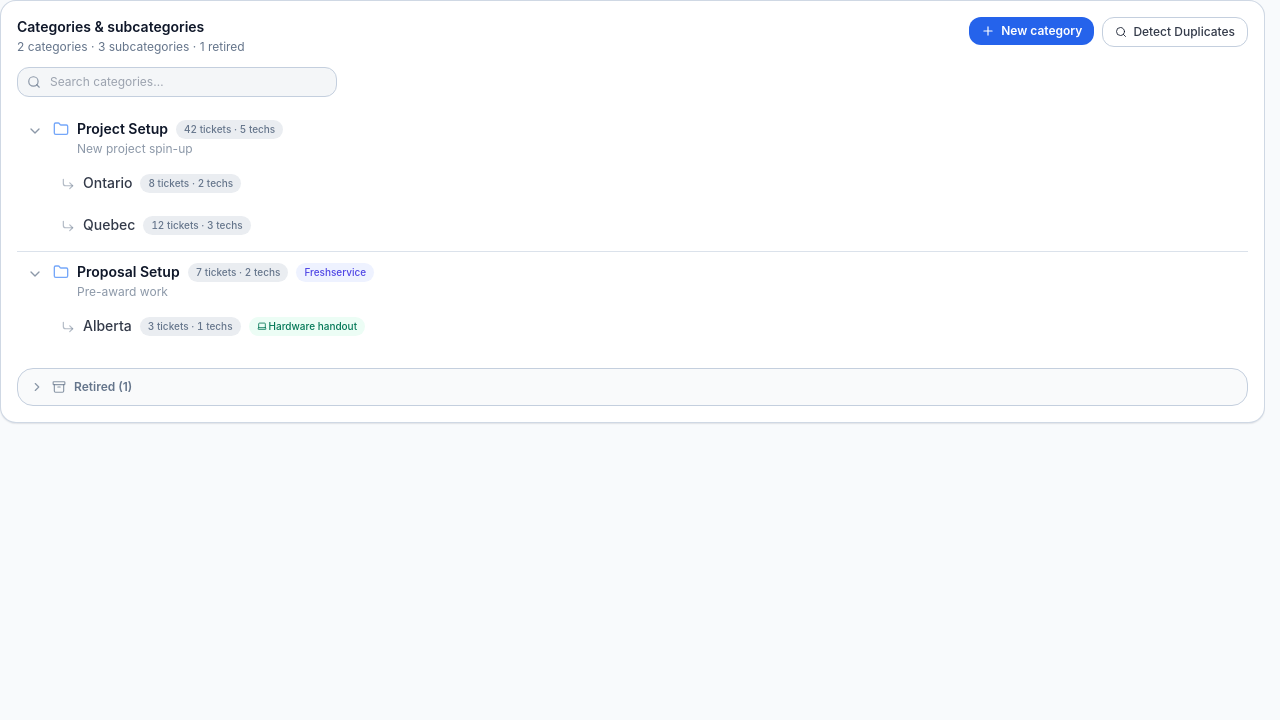
Test: CategoriesManagementTab (tree overhaul) › renders two-level tree from categoriesDetailed with counts, source chip, and retired section
This screenshot has width=1280, height=720.
expect the text "Project Setup" is shown: met, box [77,119,168,139]
expect the text "Proposal Setup" is shown: met, box [77,262,180,282]
What coordinates should you click on to do the following:
click the button "Retired (1)"
I would click on:
 (98, 386)
Its box is [18,369,1247,405].
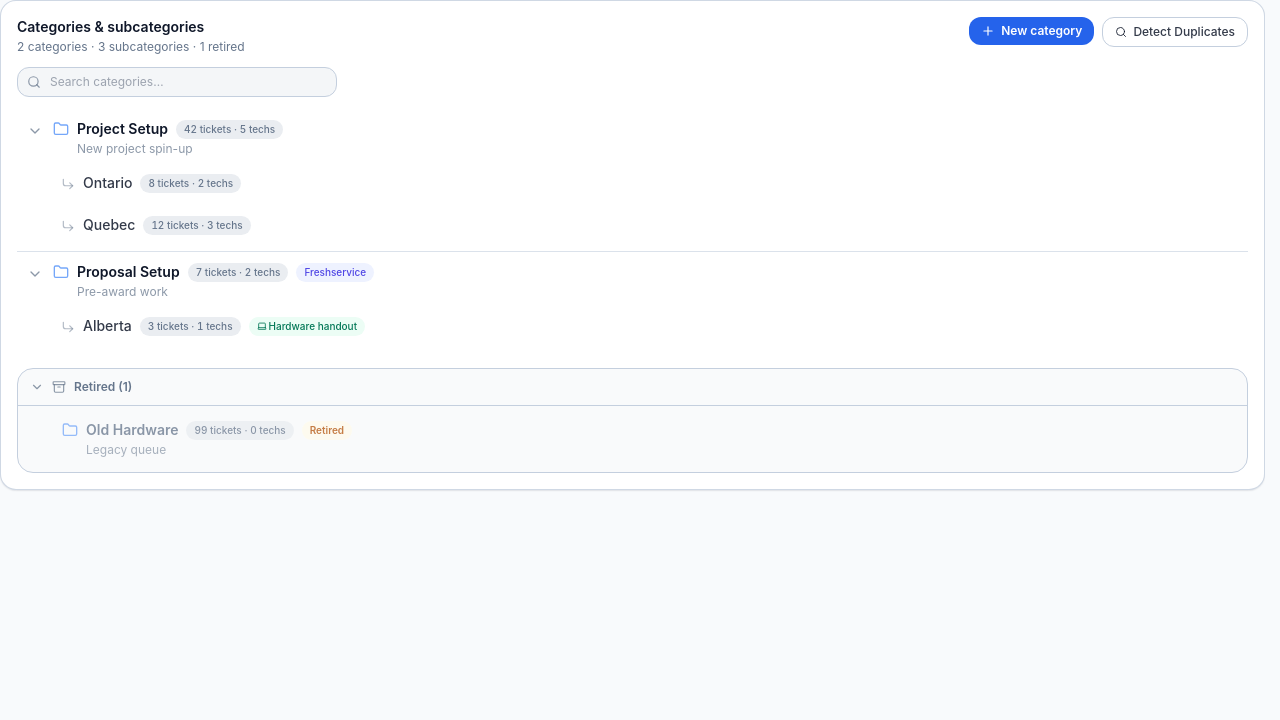
expect the text "Old Hardware" is shown: met, box [86,420,178,440]
expect the text "Retired" is shown: met, box [302,420,352,440]
